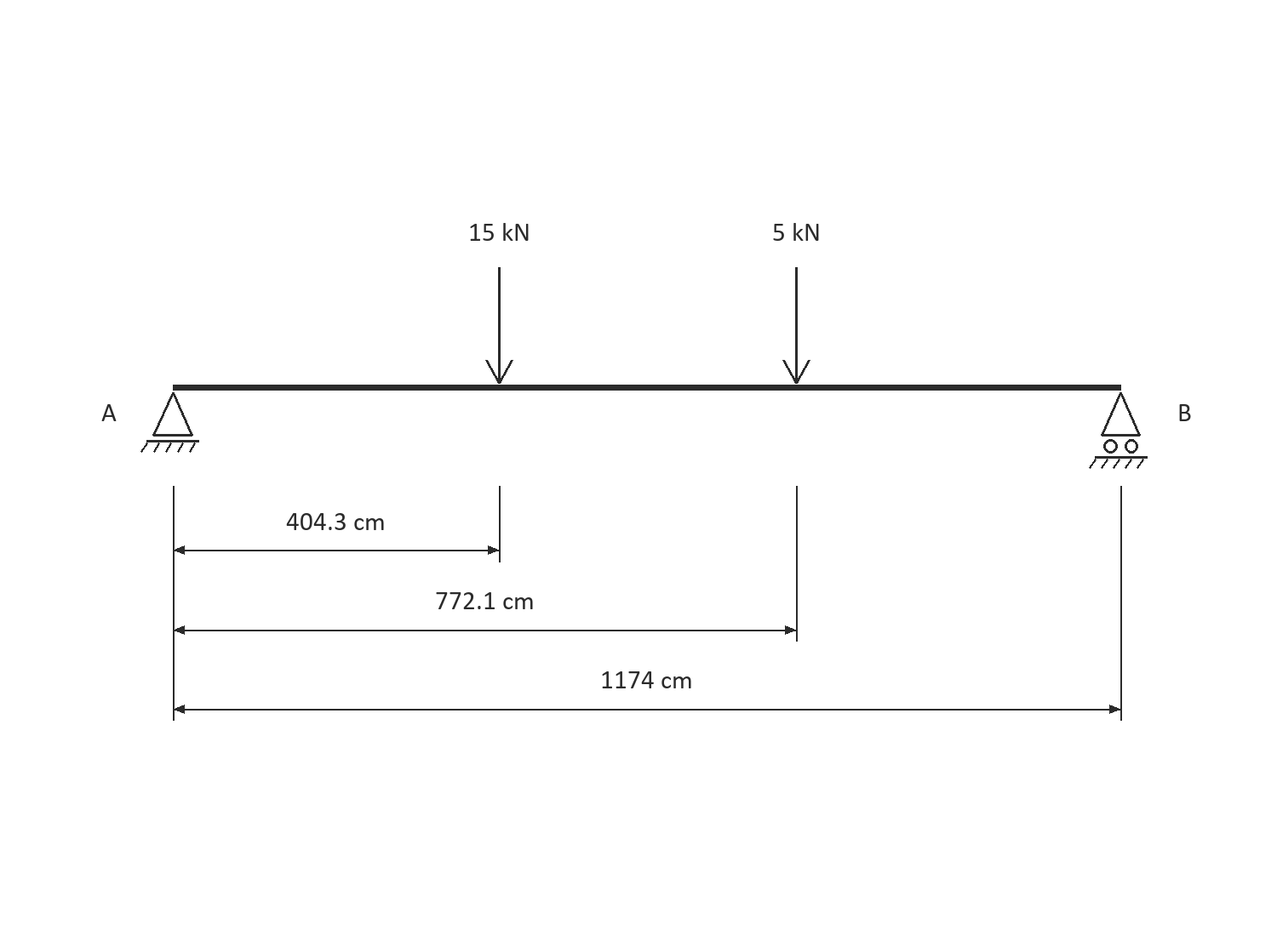pin_support: (140, 392, 199, 453)
point_load: (485, 267, 513, 384), (782, 267, 810, 384)
roller_support: (1089, 392, 1148, 469)
